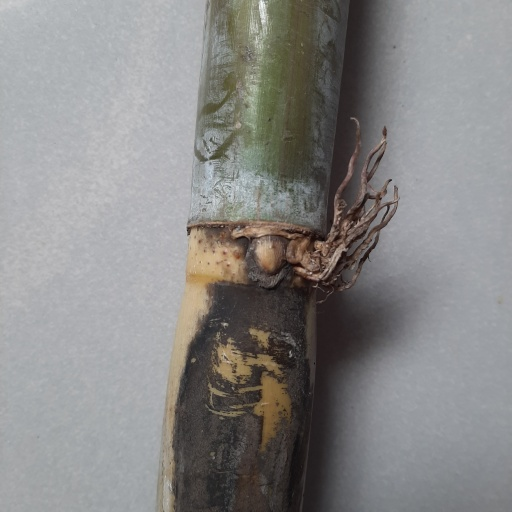Bud: (253, 235, 285, 276)
